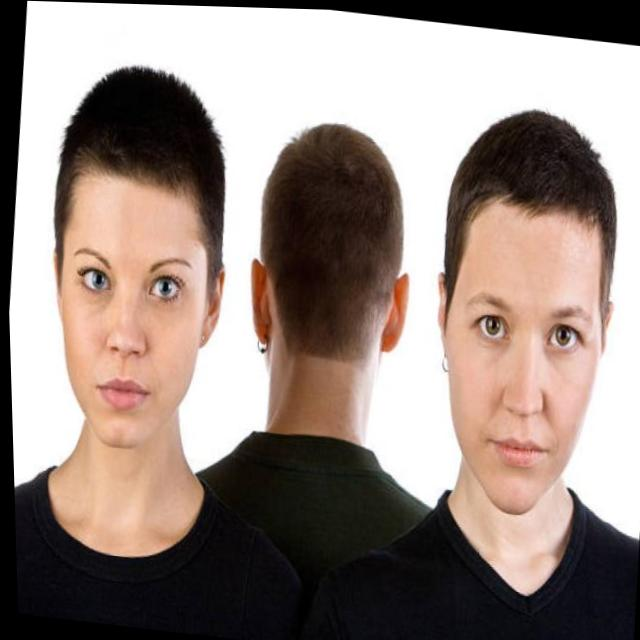no helmet: (233, 114, 429, 430)
